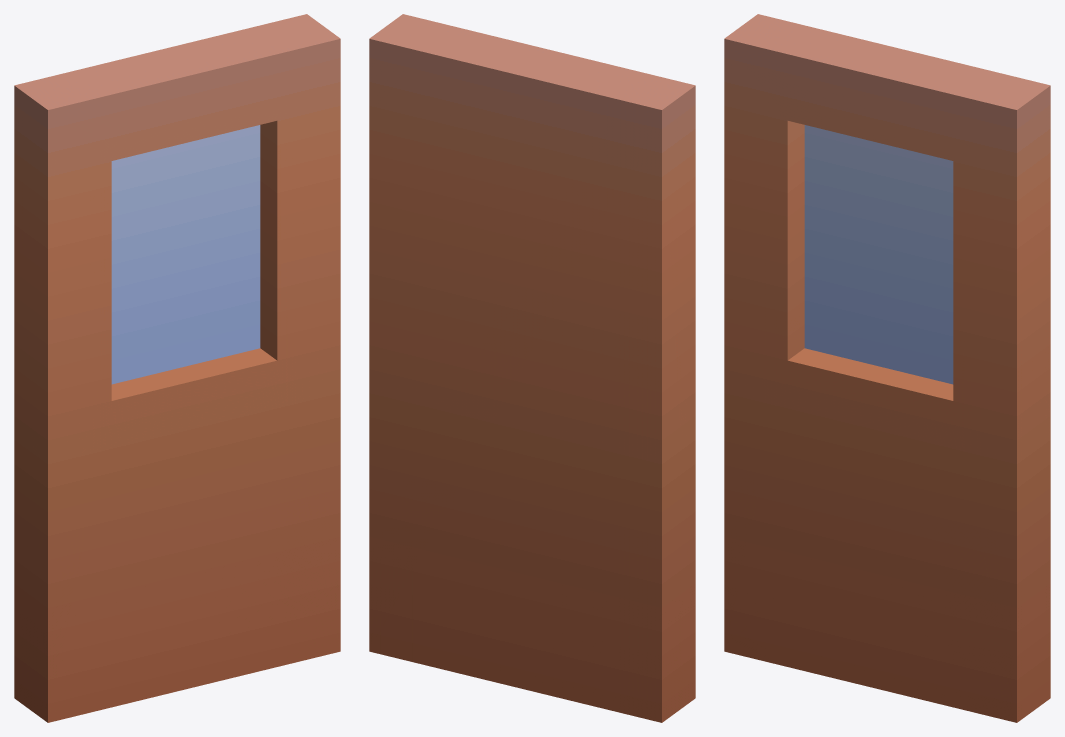
Rendered from cc0_door_wood.glb.
3 views of the same model, side by side, from view 1: azimuth 30°, elevation 25°; view 2: azimuth 150°, elevation 25°; view 3: azimuth 330°, elevation 25° (orthographic).
Parts seen in each view (by area): view 1: door-brown-window; view 2: door-brown-window; view 3: door-brown-window.
Boxes of the visible parts, x1,y1,x2,y2 form: door-brown-window: (14,14,340,722); door-brown-window: (369,14,695,722); door-brown-window: (724,14,1050,722).
Size of the model in its own units: 0.25 by 0.5 by 0.05.
1 material, 1 textured.
